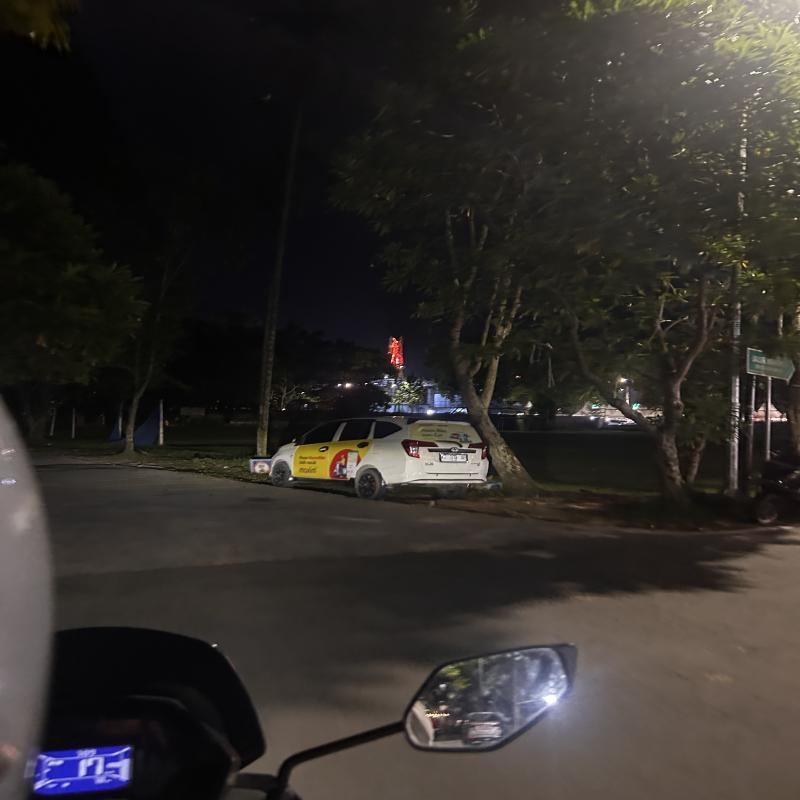license plate on a car: (439, 447, 473, 467)
